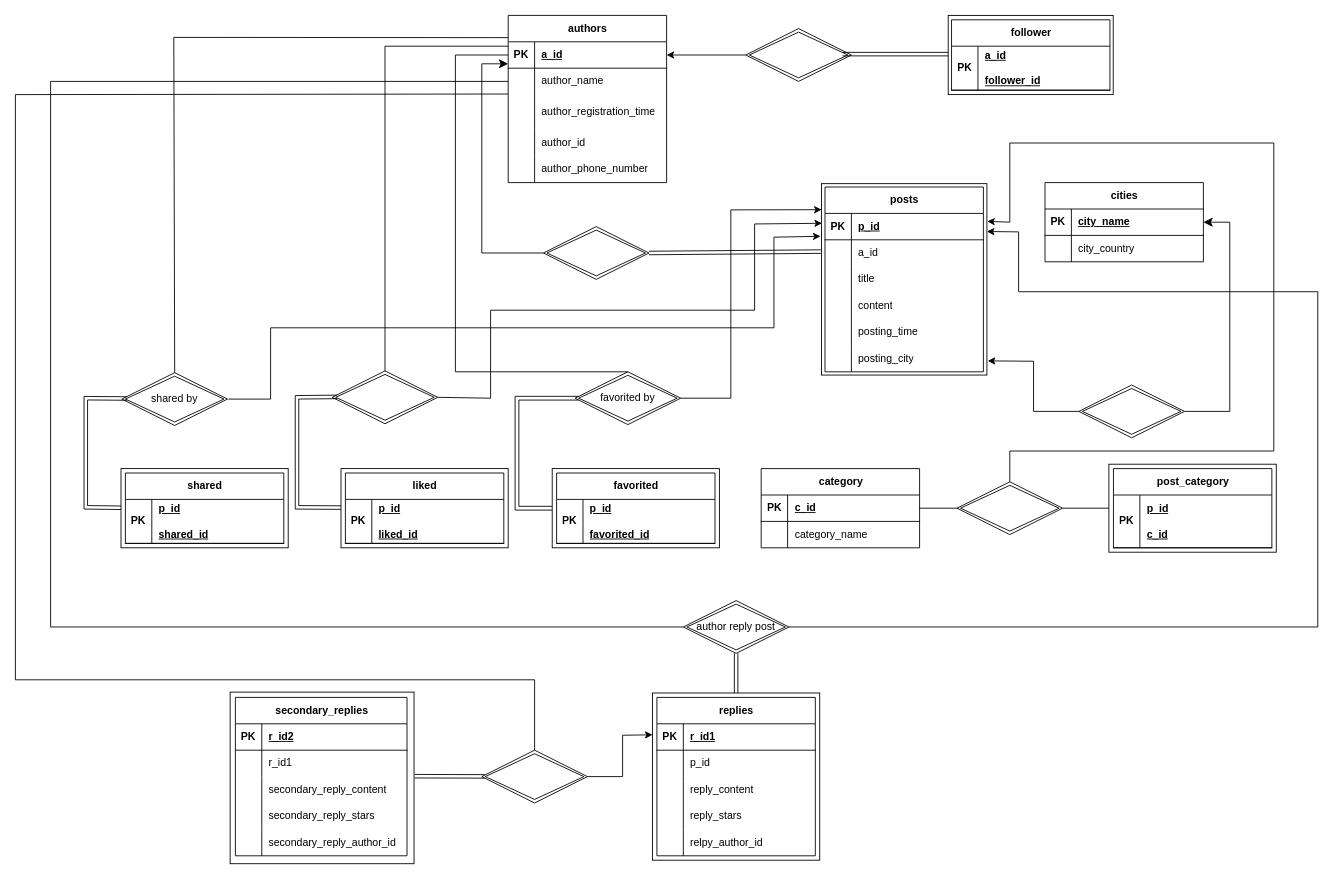
This 1340x879 diagram has some shape labels left out. The centre of each missing label's shape, as x and y in pixels:
"followed by" belongs at pixel 798 54.
"liked by" belongs at pixel 384 397.
"post categories" belongs at pixel 1009 508.
"posted by" belongs at pixel 596 252.
"posting city" belongs at pixel 1131 411.
"Relationship" belongs at pixel 534 776.
